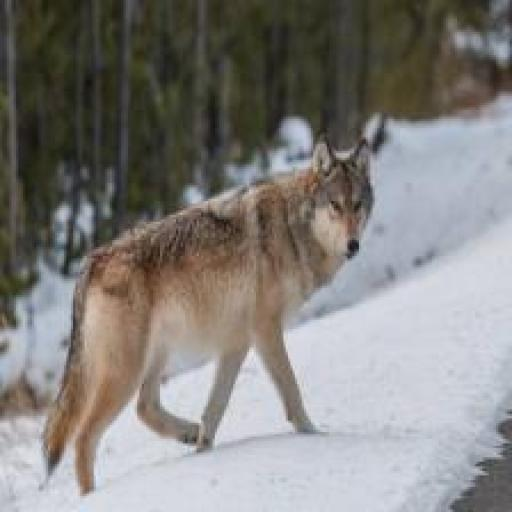wolf: (20, 80, 415, 493)
